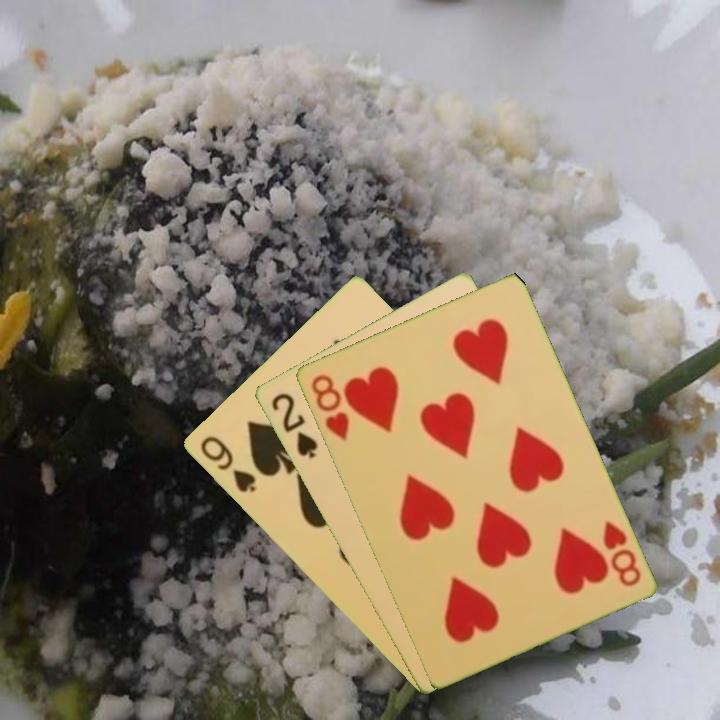2s: (267, 389, 321, 462)
8h: (598, 517, 644, 590), (307, 370, 352, 444)
9s: (196, 432, 258, 495)
